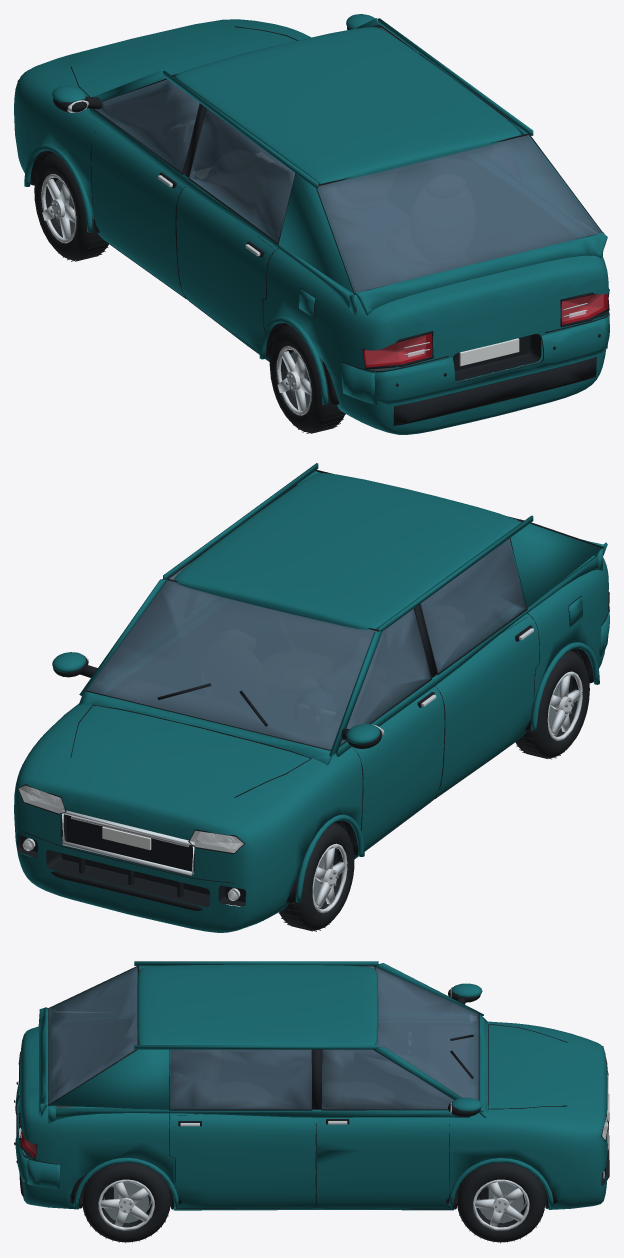
The model's file is car_ev.glb.
3 views of the same model, one above another, from view 1: azimuth 30°, elevation 25°; view 2: azimuth 150°, elevation 25°; view 3: azimuth 270°, elevation 25° (orthographic). The views are drawn at different scales.
Parts seen in each view (by area): view 1: Original electric_hatchback fourteen-section body shell, Aerodynamic mirror painted cap, Front door transparent glass, Aerodynamic mirror lower housing, Continuous circumferential tread rib, Cast swept alloy spoke, Flush corner wrapping ruby lamp lens, Front license plate; view 2: Original electric_hatchback fourteen-section body shell, Aerodynamic mirror painted cap, Front door transparent glass, Aerodynamic mirror lower housing, Continuous circumferential tread rib, Cast swept alloy spoke, Clear reversing lens insert, Front license plate; view 3: Original electric_hatchback fourteen-section body shell, Aerodynamic mirror painted cap, Front door transparent glass, Continuous circumferential tread rib, Aerodynamic mirror lower housing, Cast swept alloy spoke, Deep wheel barrel inner lip.
Part boxes in pixels (x1,y1,x2,y2): Original electric_hatchback fourteen-section body shell: (14, 19, 608, 434); Aerodynamic mirror painted cap: (24, 14, 609, 405); Front door transparent glass: (95, 26, 601, 293); Aerodynamic mirror lower housing: (17, 24, 609, 425); Continuous circumferential tread rib: (34, 153, 345, 433); Cast swept alloy spoke: (41, 100, 602, 415); Flush corner wrapping ruby lamp lens: (363, 294, 608, 367); Front license plate: (459, 338, 519, 366); Original electric_hatchback fourteen-section body shell: (14, 555, 608, 932); Aerodynamic mirror painted cap: (52, 463, 609, 902); Front door transparent glass: (86, 472, 526, 749); Aerodynamic mirror lower housing: (17, 469, 609, 910); Continuous circumferential tread rib: (278, 650, 589, 931); Cast swept alloy spoke: (24, 628, 582, 913); Clear reversing lens insert: (18, 785, 243, 900); Front license plate: (102, 826, 151, 850); Original electric_hatchback fourteen-section body shell: (19, 1021, 607, 1210); Aerodynamic mirror painted cap: (15, 961, 553, 1206); Front door transparent glass: (49, 966, 478, 1109); Continuous circumferential tread rib: (82, 1162, 545, 1243); Aerodynamic mirror lower housing: (14, 965, 609, 1209); Cast swept alloy spoke: (19, 987, 608, 1230); Deep wheel barrel inner lip: (104, 1182, 526, 1223).
Size of the model in its own units: 2.19 by 1.56 by 4.4.
